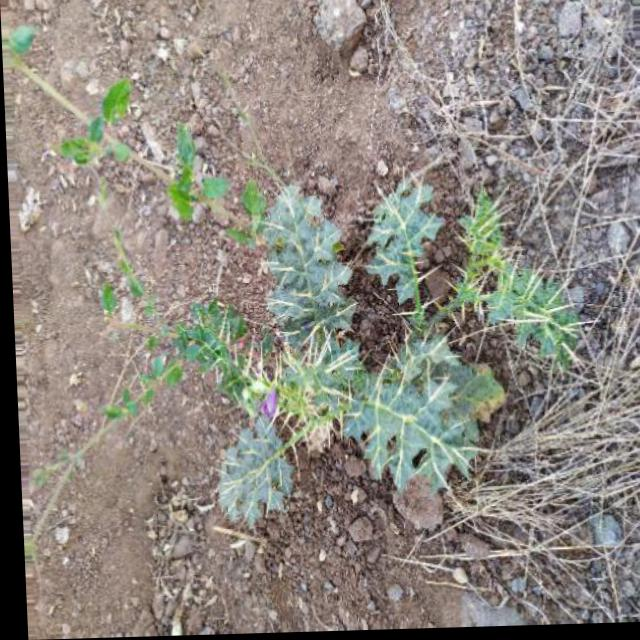weed: (203, 173, 601, 543)
